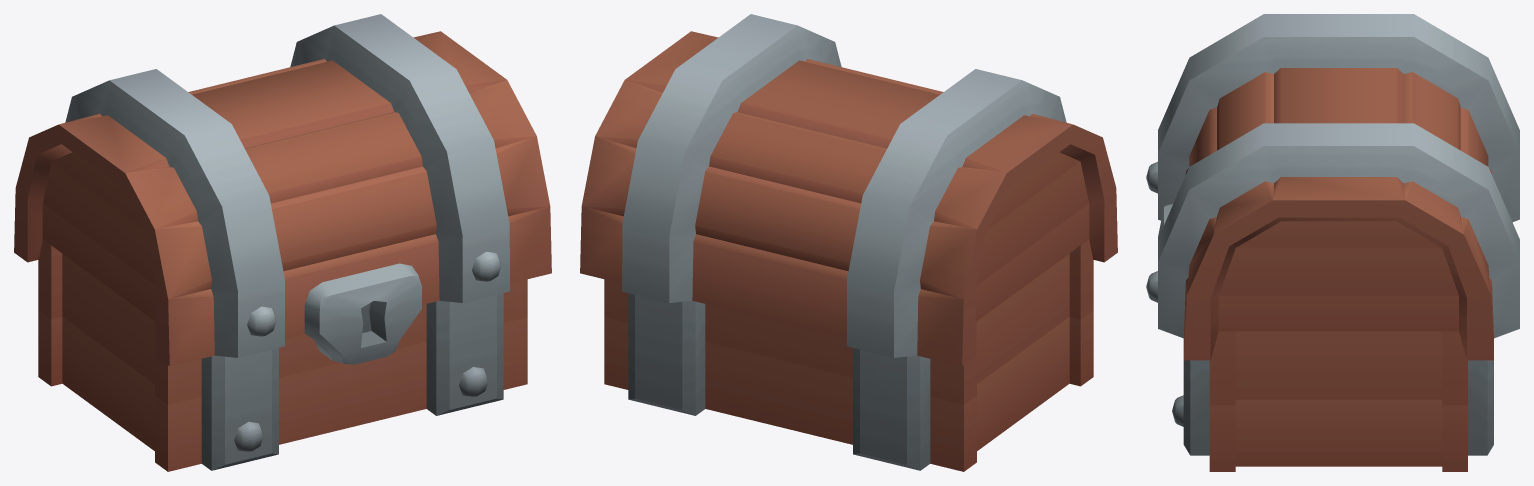
The model's file is chest.glb.
3 renders of one model, left to right at view 1: azimuth 30°, elevation 25°; view 2: azimuth 150°, elevation 25°; view 3: azimuth 270°, elevation 25°, orthographic.
Parts seen in each view (by area): view 1: chest_lid, chest; view 2: chest_lid, chest; view 3: chest_lid, chest.
Boxes of the visible parts, <box> form: chest_lid: <box>14,14,551,366</box>; chest: <box>38,239,527,471</box>; chest_lid: <box>580,14,1117,366</box>; chest: <box>604,239,1093,471</box>; chest_lid: <box>1146,14,1519,360</box>; chest: <box>1172,331,1493,471</box>.
Size of the model in its own units: 1.7 by 1.3 by 1.45.
Materials: 1 (1 with a texture image).
